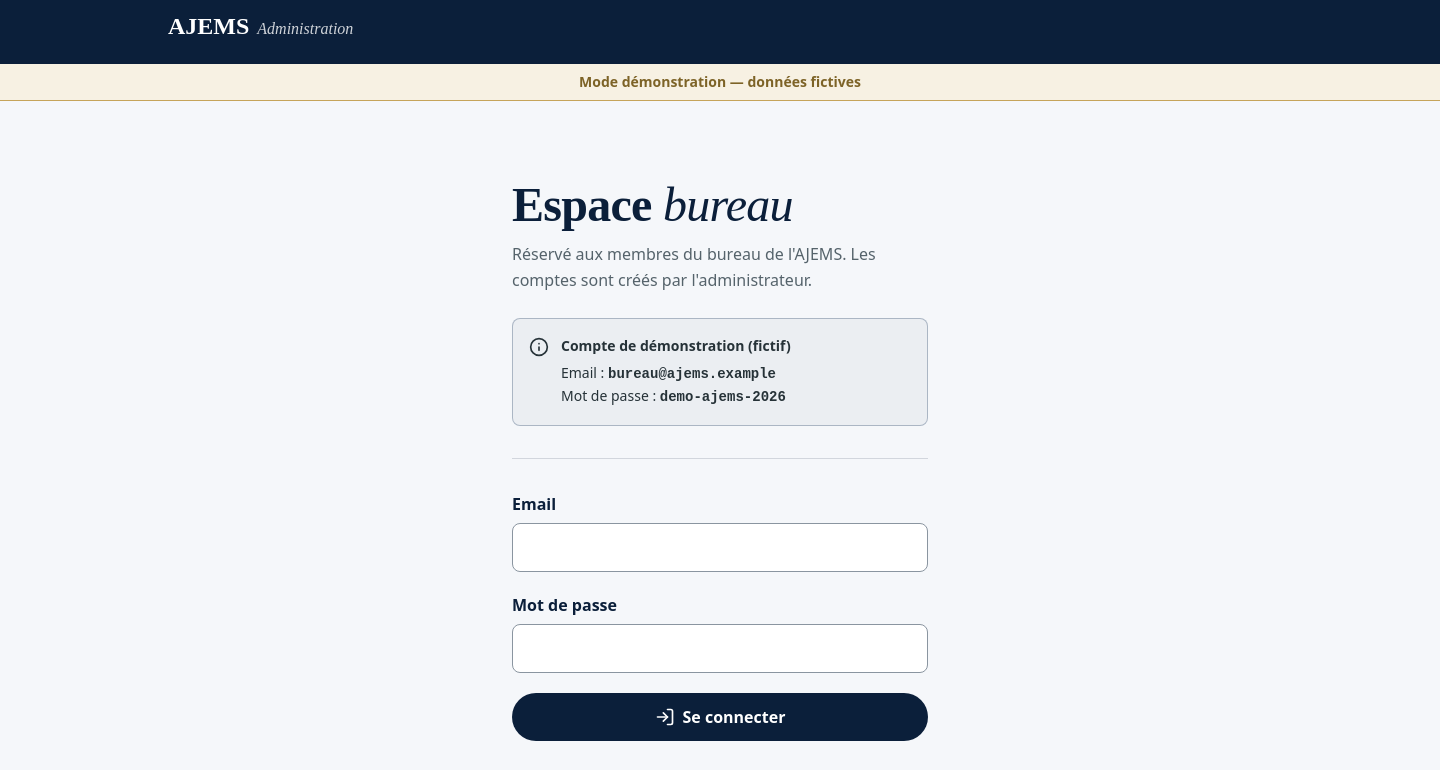
Test: admin › redirects to the login page and rejects a wrong password
This screenshot has width=1440, height=770.
Expected: the heading "Espace bureau" is shown, left=512, top=178, right=793, bottom=231
Expected: the text "Mode démonstration — données fictives" is shown, left=0, top=64, right=1439, bottom=101
Type "bureau@ajems.example" into the field labelled "Email".
click(720, 548); type("bureau@ajems.example")  # box left=512, top=523, right=928, bottom=572
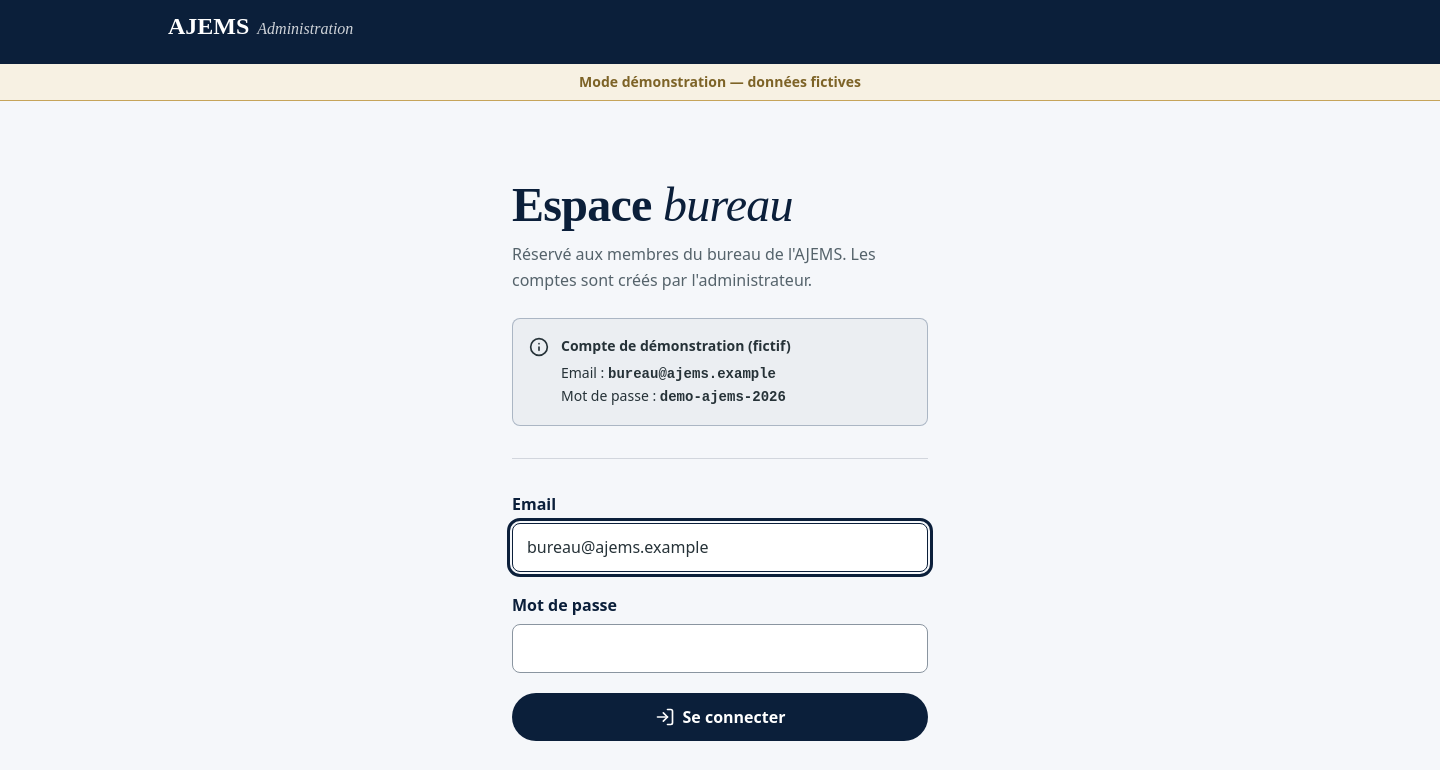
Type "mauvais" into the password field labelled "Mot de passe".
click(720, 648); type("mauvais")  # box left=512, top=624, right=928, bottom=673
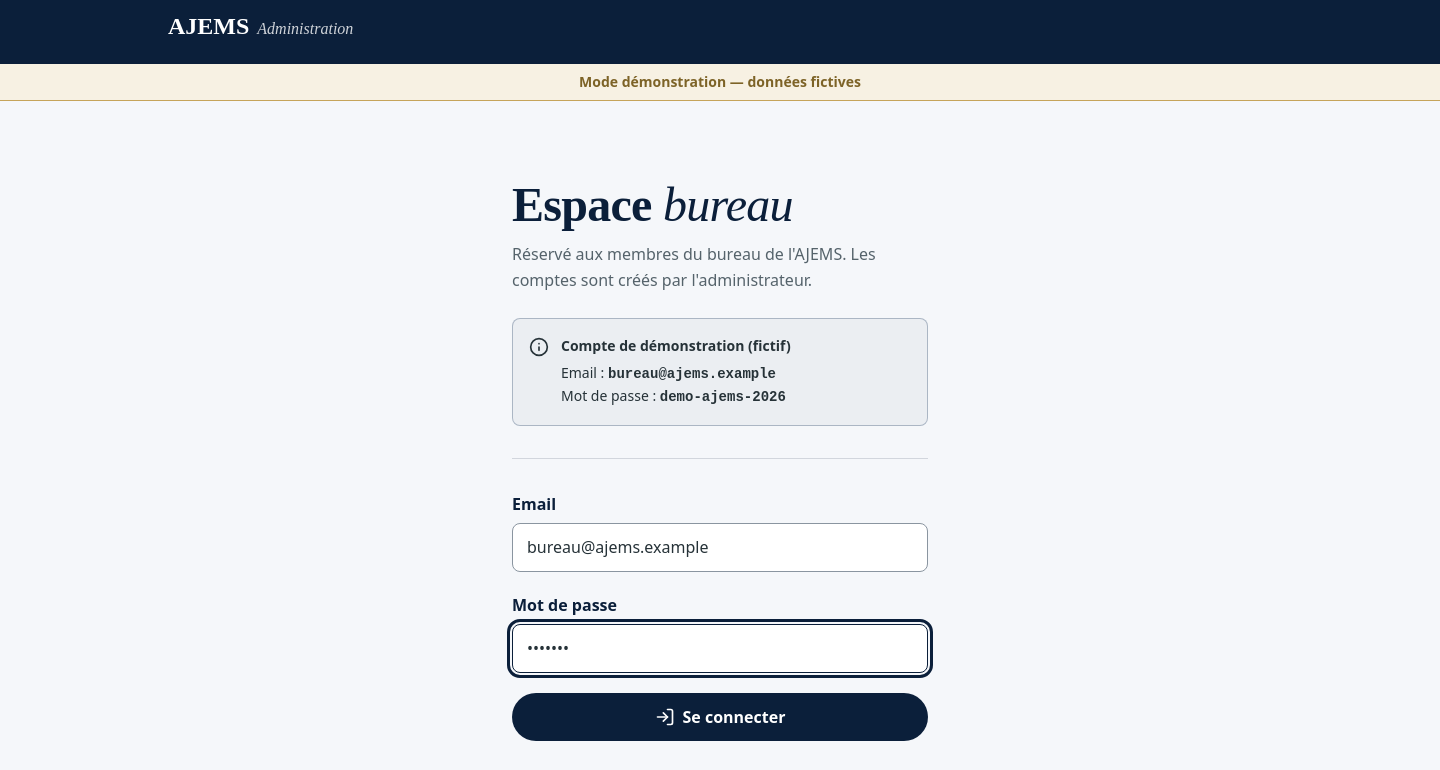
Click the button "Se connecter".
click(720, 717)  # box left=512, top=693, right=928, bottom=741
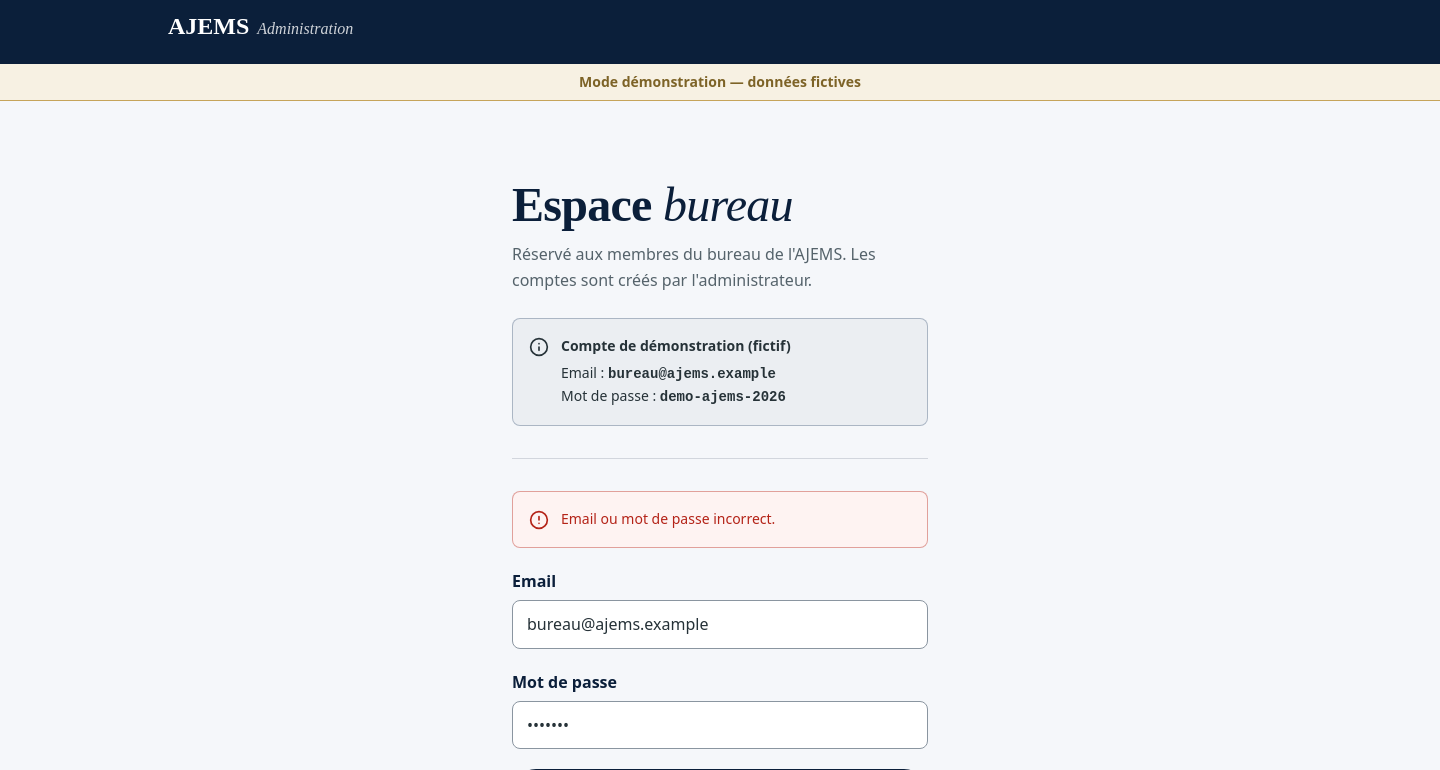
Now the message reads "Email ou mot de passe incorrect.", box left=561, top=509, right=775, bottom=528
